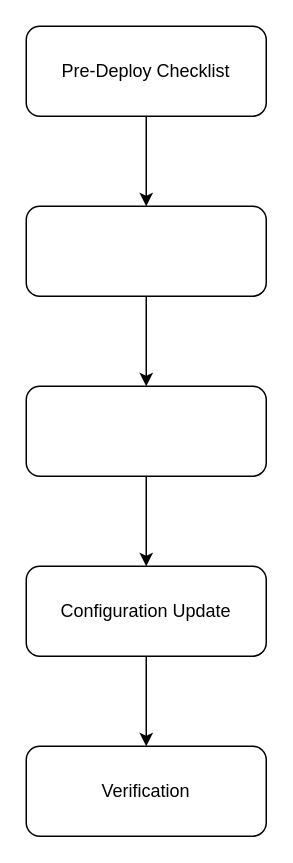
The diagram is 293 pixels wide and 863 high, and some of its shapes have lost their labels. Each missing label, with the centre of its shape:
Application Deploy: point 145,430
Database Migration: point 145,250
